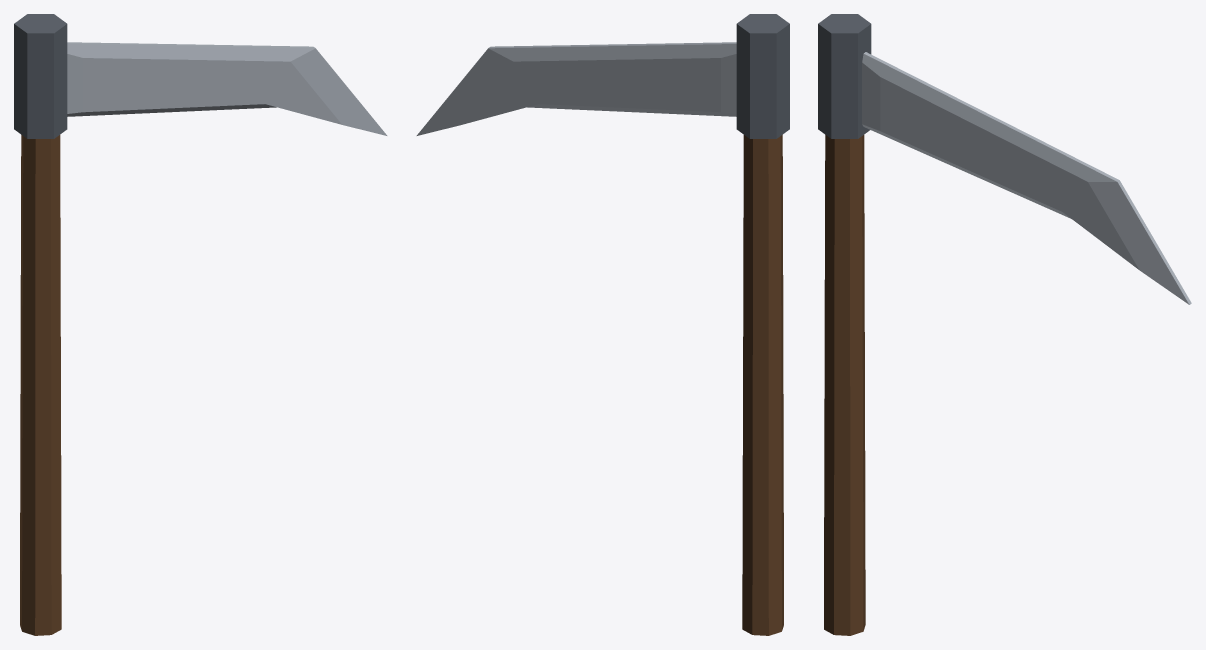
The model's file is g-sickle-kama.glb.
3 views of the same model, side by side, from view 1: azimuth 30°, elevation 25°; view 2: azimuth 150°, elevation 25°; view 3: azimuth 330°, elevation 25° (orthographic).
Parts seen in each view (by area): view 1: g-sickle-kama; view 2: g-sickle-kama; view 3: g-sickle-kama.
Part boxes in pixels (left/top/right/bottom): g-sickle-kama: left=14, top=14, right=387, bottom=635; g-sickle-kama: left=416, top=14, right=789, bottom=635; g-sickle-kama: left=818, top=14, right=1191, bottom=635.
Size of the model in its own units: 0.2539 by 0.4 by 0.032.
